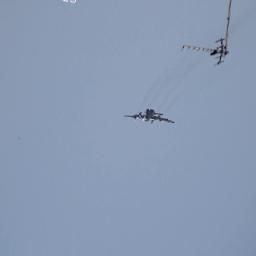Airplane: (123, 108, 176, 126)
